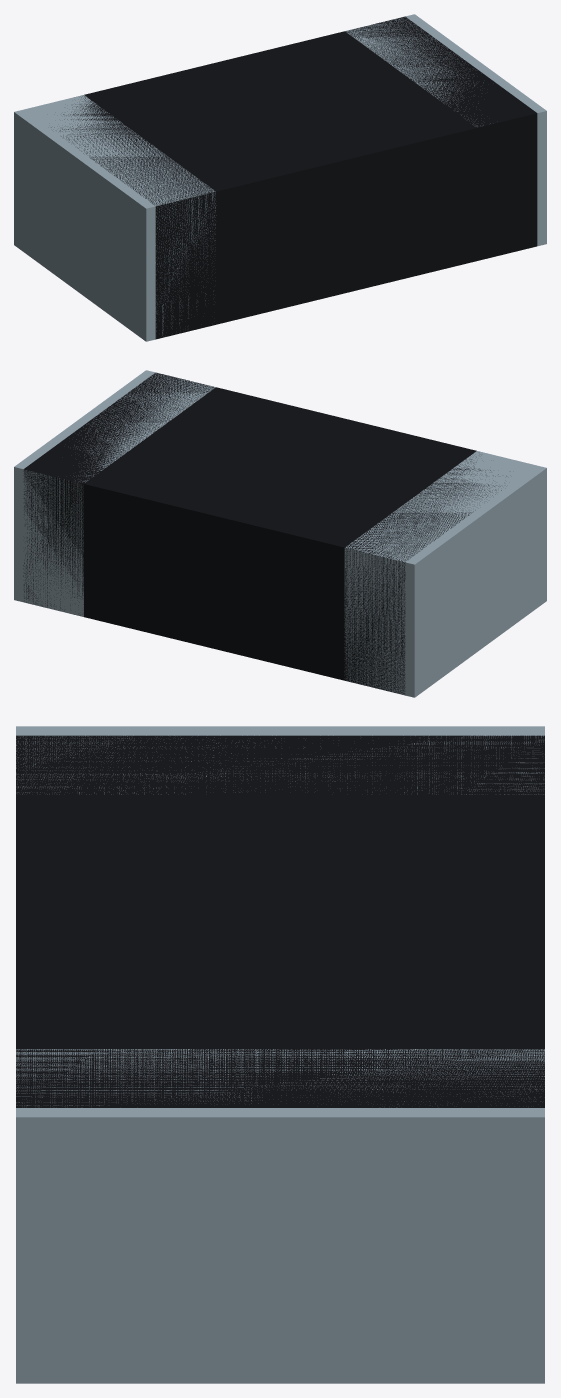
3 views of the same model, one above another, from view 1: azimuth 30°, elevation 25°; view 2: azimuth 150°, elevation 25°; view 3: azimuth 270°, elevation 25° (orthographic). The views are drawn at different scales.
Visible parts, largest first — view 1: Diode_Mold, Diode_End (×2); view 2: Diode_Mold, Diode_End (×2); view 3: Diode_Mold, Diode_End (×2).
Boxes of the visible parts, left/top/right/bottom form: Diode_Mold: left=51, top=16, right=537, bottom=339; Diode_End (×2): left=14, top=14, right=546, bottom=341; Diode_Mold: left=23, top=372, right=506, bottom=695; Diode_End (×2): left=14, top=370, right=546, bottom=697; Diode_Mold: left=16, top=735, right=544, bottom=1107; Diode_End (×2): left=16, top=726, right=544, bottom=1383.
Size of the model in its own units: 0.315 by 0.1 by 0.18.
